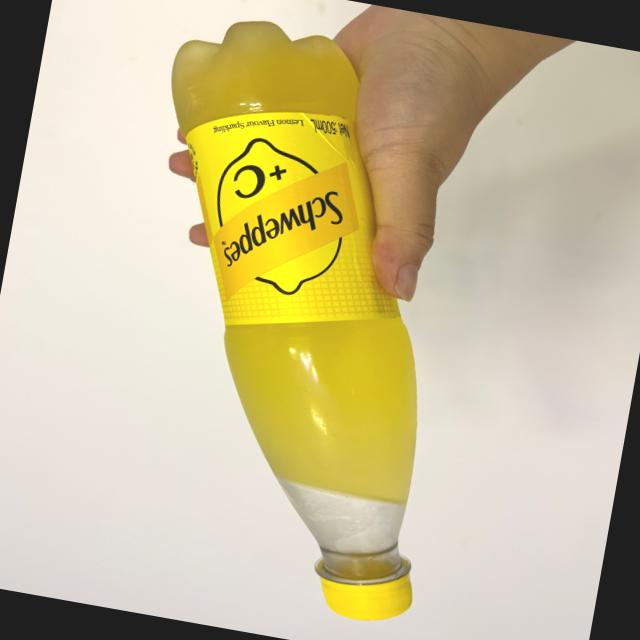bottle: (80, 4, 510, 630)
